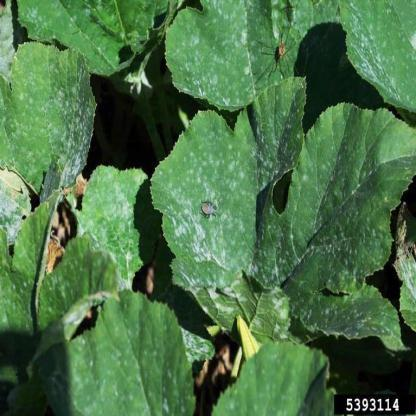Squash Powdery mildew leaf: (275, 101, 415, 332), (145, 99, 289, 319), (14, 35, 99, 198), (170, 1, 282, 115), (77, 158, 159, 286)
